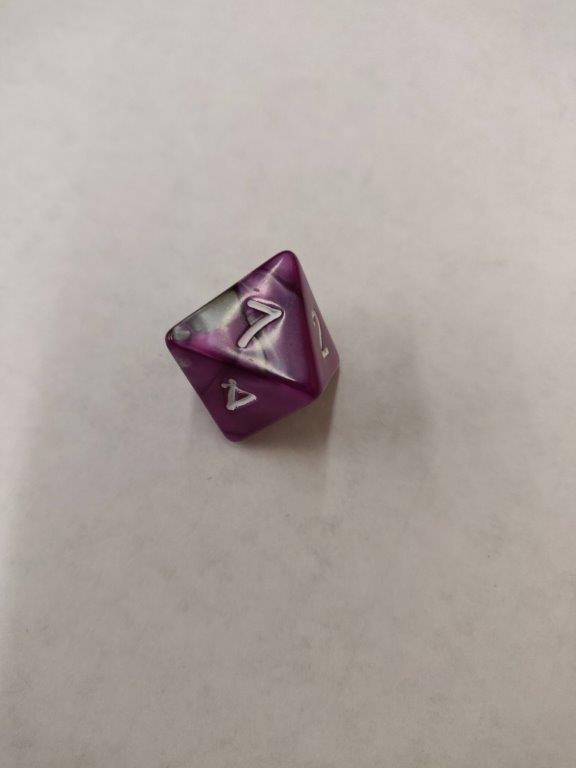d8-7: (161, 248, 338, 444)
